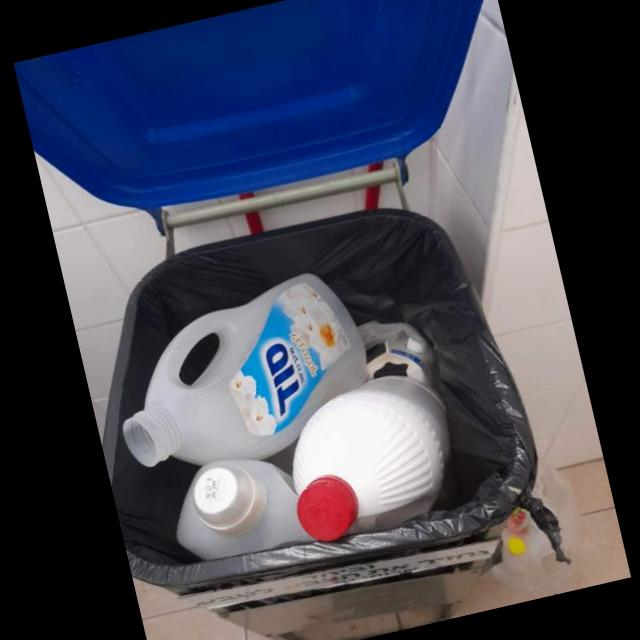hop_nhua: (122, 273, 368, 468), (292, 375, 450, 542), (175, 458, 306, 562)
vo_hop_sua: (366, 330, 434, 389)
